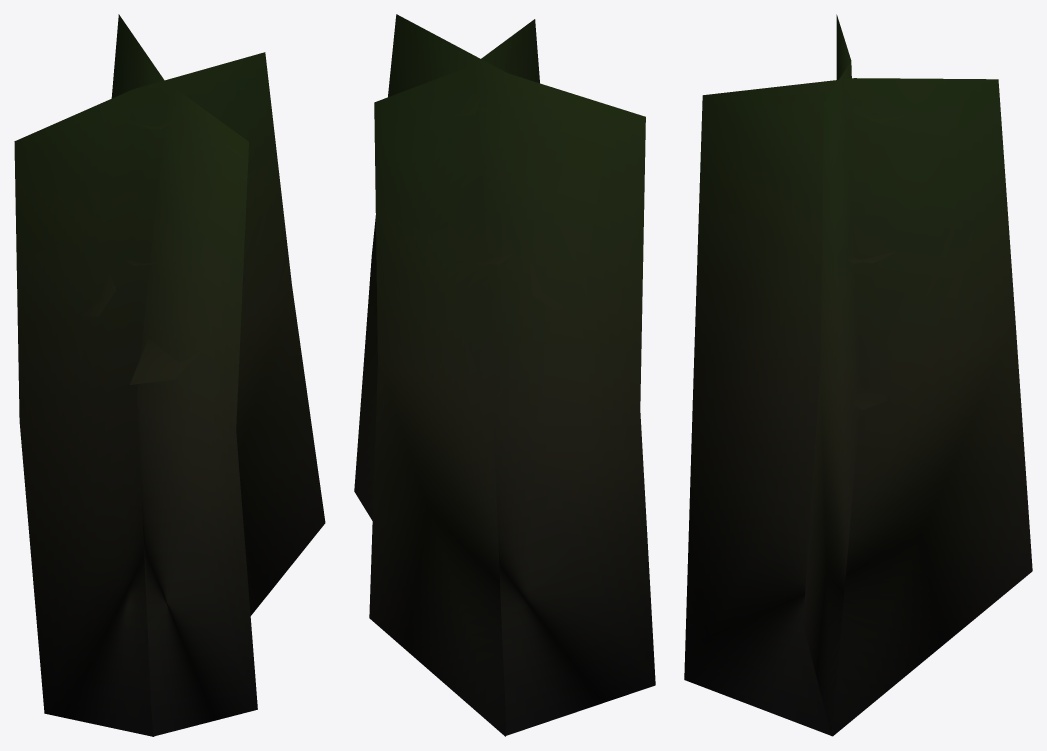
File: Flowers01_Blue.fbx
3 views of the same model, side by side, from view 1: azimuth 30°, elevation 25°; view 2: azimuth 150°, elevation 25°; view 3: azimuth 270°, elevation 25° (orthographic). The views are drawn at different scales.
Visible parts, largest first — view 1: Flowers01_Blue; view 2: Flowers01_Blue; view 3: Flowers01_Blue.
Boxes of the visible parts, bbox=[...] form: Flowers01_Blue: bbox=[14, 14, 325, 736]; Flowers01_Blue: bbox=[354, 14, 655, 736]; Flowers01_Blue: bbox=[684, 14, 1032, 736].
Bounding box in the file's own units: 0.299 × 0.6408 × 0.2937.
